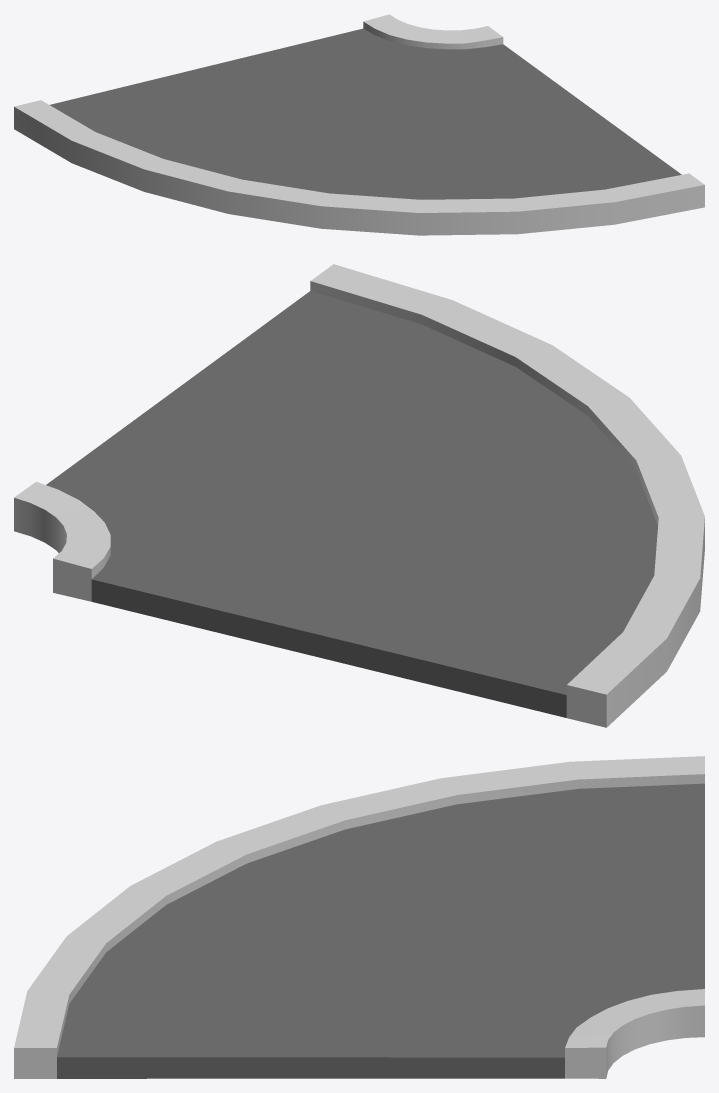
3 renders of one model, top to bottom at view 1: azimuth 30°, elevation 25°; view 2: azimuth 150°, elevation 25°; view 3: azimuth 270°, elevation 25°, orthographic. The views are drawn at different scales.
Parts seen in each view (by area): view 1: Lo-Body_01; view 2: Lo-Body_01; view 3: Lo-Body_01.
Boxes of the visible parts, x1=… form: Lo-Body_01: x1=14, y1=14, x2=704, y2=235; Lo-Body_01: x1=14, y1=264, x2=704, y2=727; Lo-Body_01: x1=14, y1=756, x2=704, y2=1078.
Bounding box in the file's own units: 7.34 × 0.3713 × 7.34.
1 material, 1 textured.
